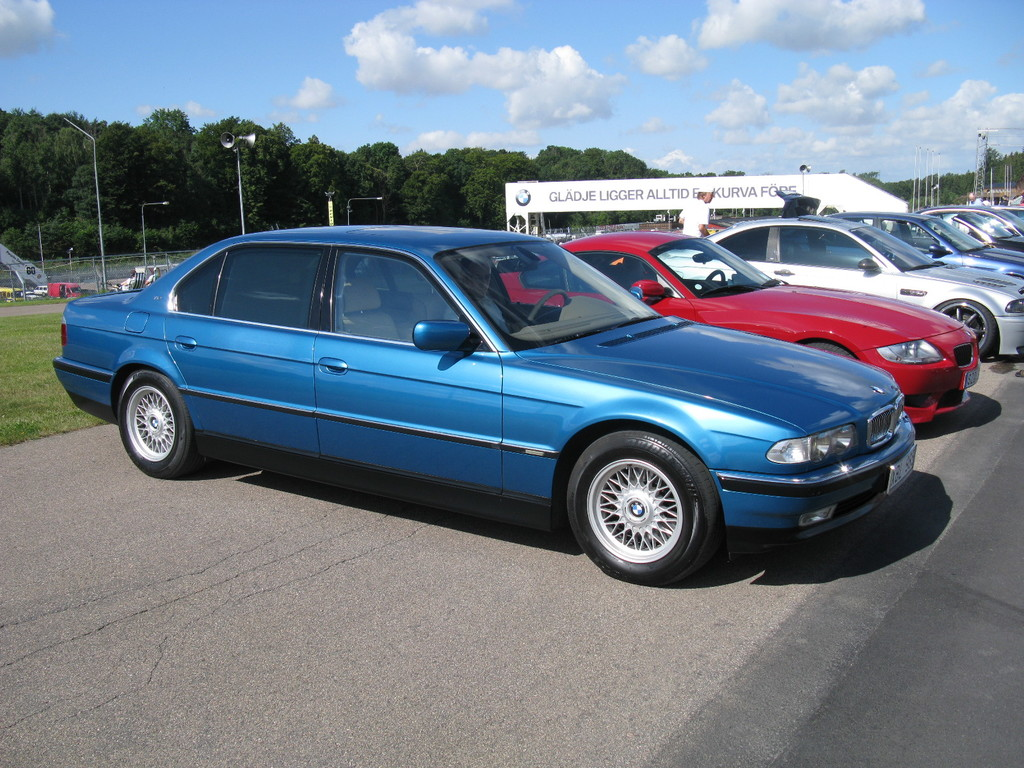Car: (49, 206, 1023, 586)
